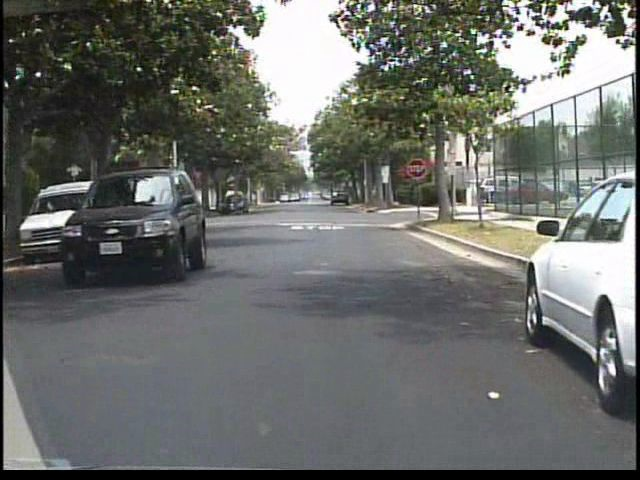person: (229, 180, 249, 222)
